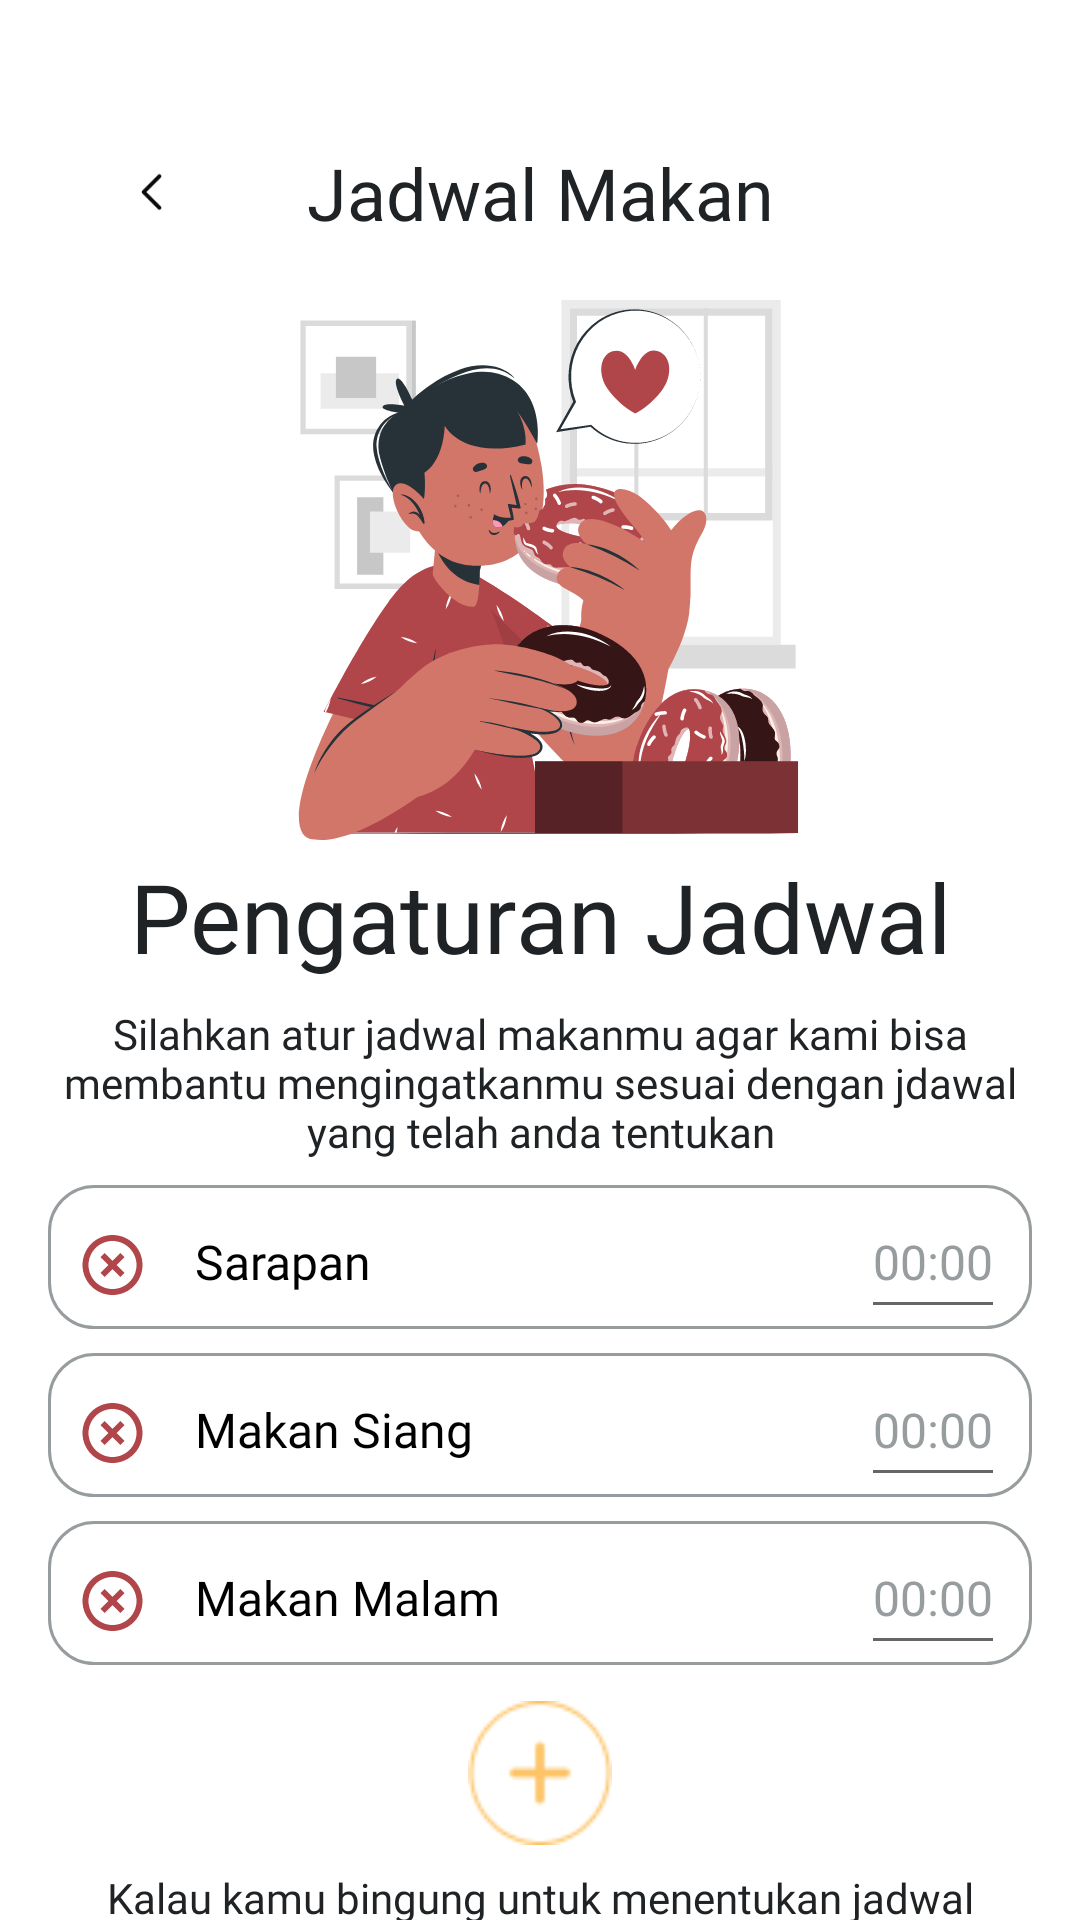

Locate icon controls on the screen. Image size 1080w x 1920h, boxes as region(x1, y1, x2, y2).
back: region(141, 174, 162, 210)
